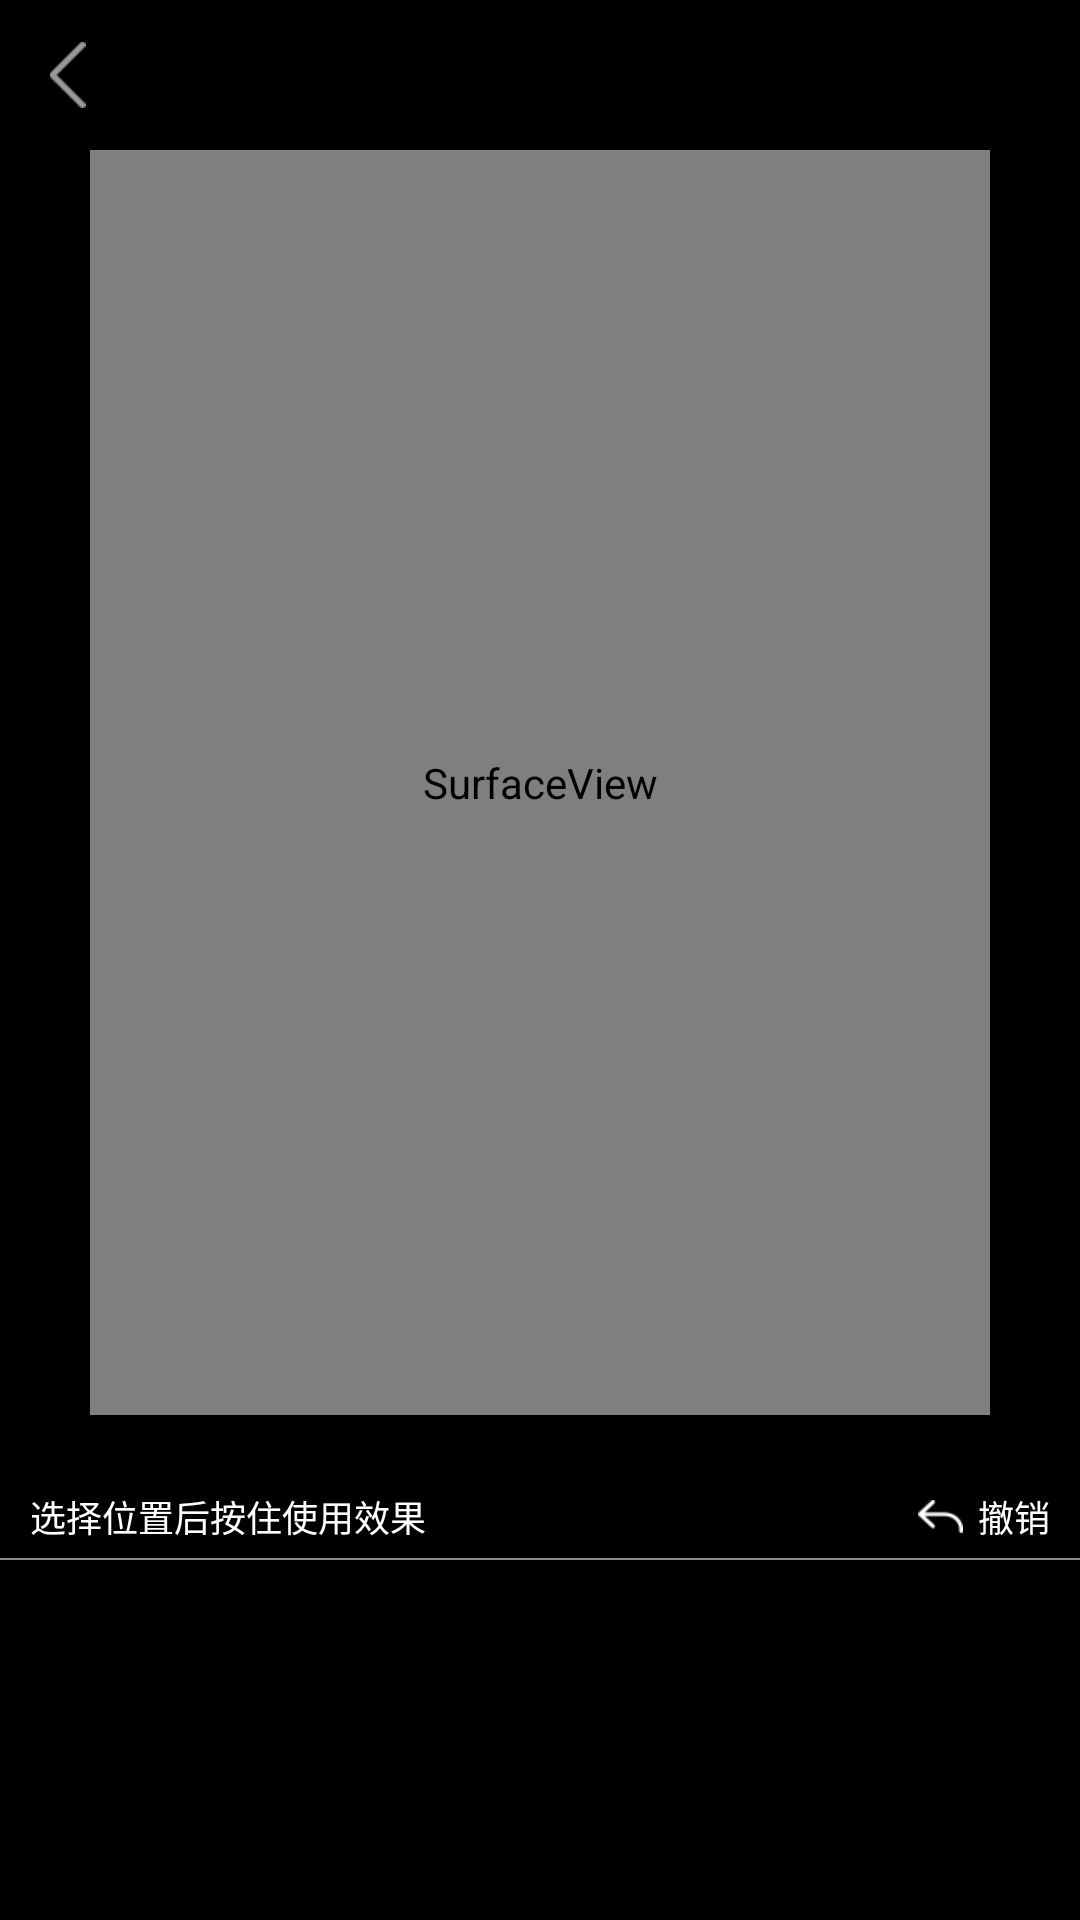

Icon bounding boxes for this 1080 × 1920 phone screenshot, format (x1, y1, x2, y2):
aiya return: (50, 42, 86, 108)
